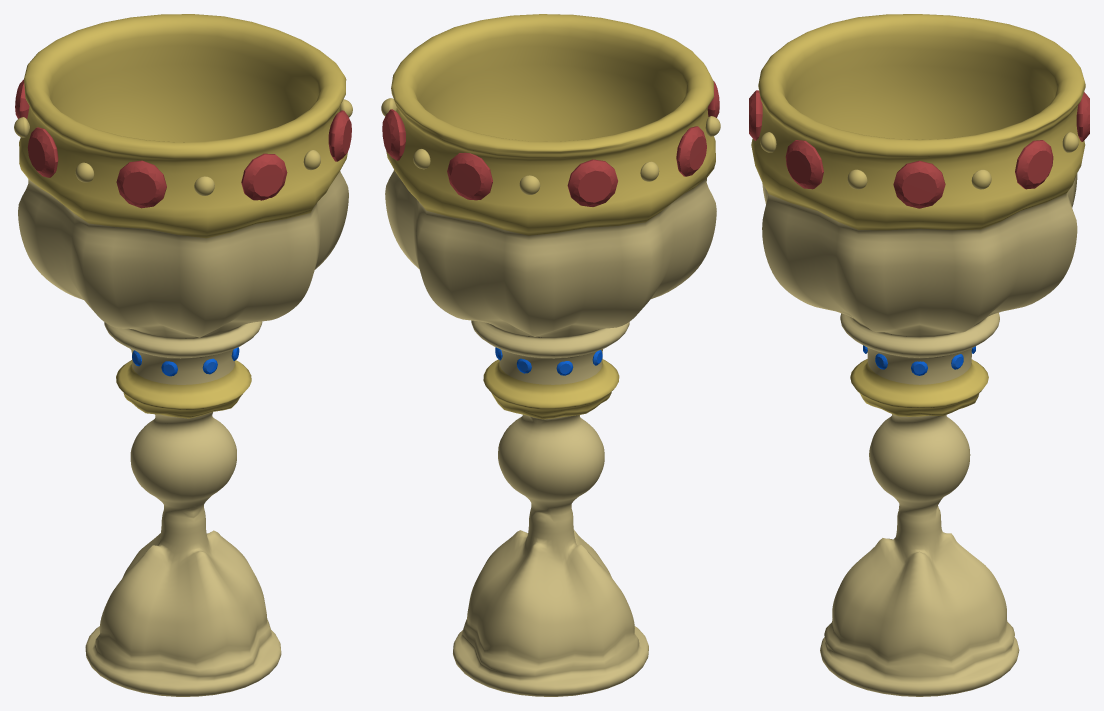
Rendered from copa 2.fbx.
3 renders of one model, left to right at view 1: azimuth 30°, elevation 25°; view 2: azimuth 150°, elevation 25°; view 3: azimuth 270°, elevation 25°, orthographic.
Visible parts, largest first — view 1: copa_2, pCone6, pCone1, pCone3, pCone7; view 2: copa_2, pCone8, pCone2, pCone3, pCone5; view 3: copa_2, pCone4, pCone5, pCone7, pCone1, pCone2.
Boxes of the visible parts, box(x1,y1,x2,y2) form: copa_2: box(18, 14, 348, 696); pCone6: box(116, 160, 166, 208); pCone1: box(241, 153, 287, 200); pCone3: box(27, 127, 58, 177); pCone7: box(328, 110, 351, 161); copa_2: box(385, 14, 716, 696); pCone8: box(567, 159, 617, 206); pCone2: box(447, 152, 492, 200); pCone3: box(676, 126, 706, 176); pCone5: box(382, 109, 405, 160); copa_2: box(751, 14, 1085, 696); pCone4: box(893, 160, 945, 208); pCone5: box(1015, 140, 1053, 189); pCone7: box(785, 140, 823, 189); pCone1: box(749, 90, 762, 140); pCone2: box(1076, 92, 1089, 141).
Bounding box in the file's own units: 11.37 × 21.4 × 11.37.
